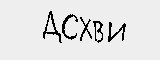В: (93, 20, 104, 44)
Д: (42, 9, 60, 42)
И: (108, 20, 125, 42)
С: (61, 12, 79, 40)
Х: (81, 17, 93, 40)
